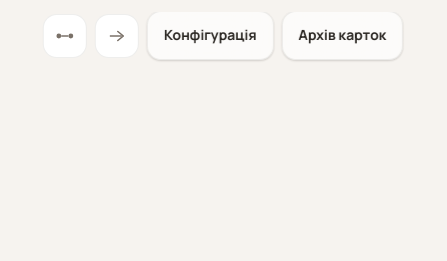
it: живе тестування: плаваюча кнопка "Конфігурація" знизу по центру перемикає на пікер 5 режимів
The image size is (447, 261).
Click the button "Конфігурація".
click(210, 36)  # box [147,11,273,60]
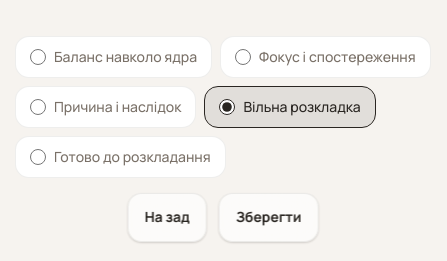
Check: the radio button labelled "Баланс навколо ядра" is shown, box [30,49,46,65]
Check: the radio button labelled "Фокус і спостереження" is shown, box [235,49,251,65]
Check: the radio button labelled "Причина і наслідок" is shown, box [30,99,46,115]
